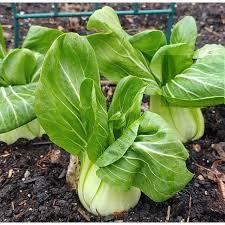Healthy-Pechay: (13, 30, 225, 168)
